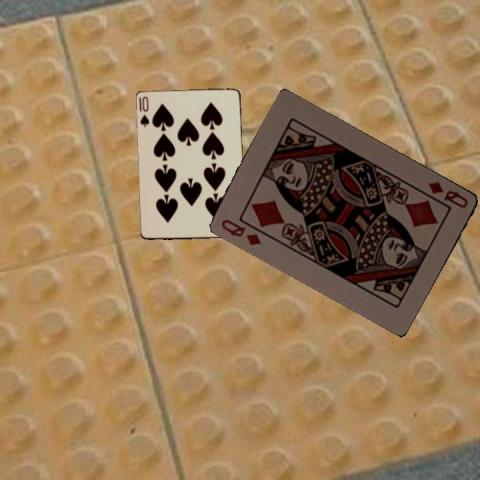10s: (137, 93, 151, 128)
Qd: (425, 178, 470, 209), (219, 216, 263, 247)
